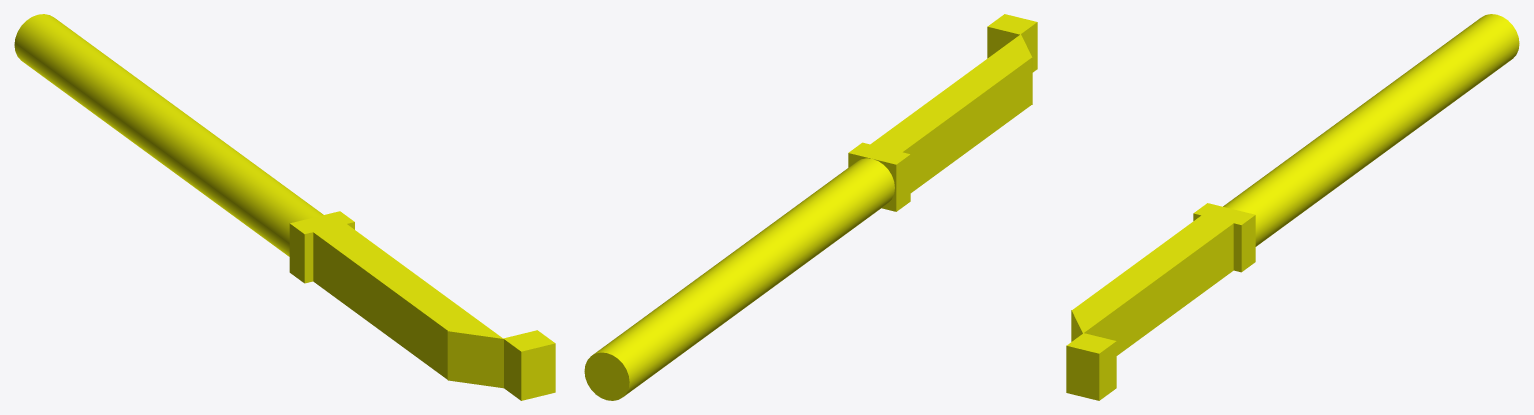
File: body_3.obj
3 renders of one model, left to right at view 1: azimuth 30°, elevation 25°; view 2: azimuth 150°, elevation 25°; view 3: azimuth 330°, elevation 25°, orthographic. The views are drawn at different scales.
Parts seen in each view (by area): view 1: Body_12; view 2: Body_12; view 3: Body_12.
Boxes of the visible parts, box(x1,y1,x2,y2) form: Body_12: box(14, 14, 555, 400); Body_12: box(584, 14, 1037, 400); Body_12: box(1066, 14, 1519, 400).
Bounding box in the file's own units: 0.1785 × 0.11 × 1.89.
